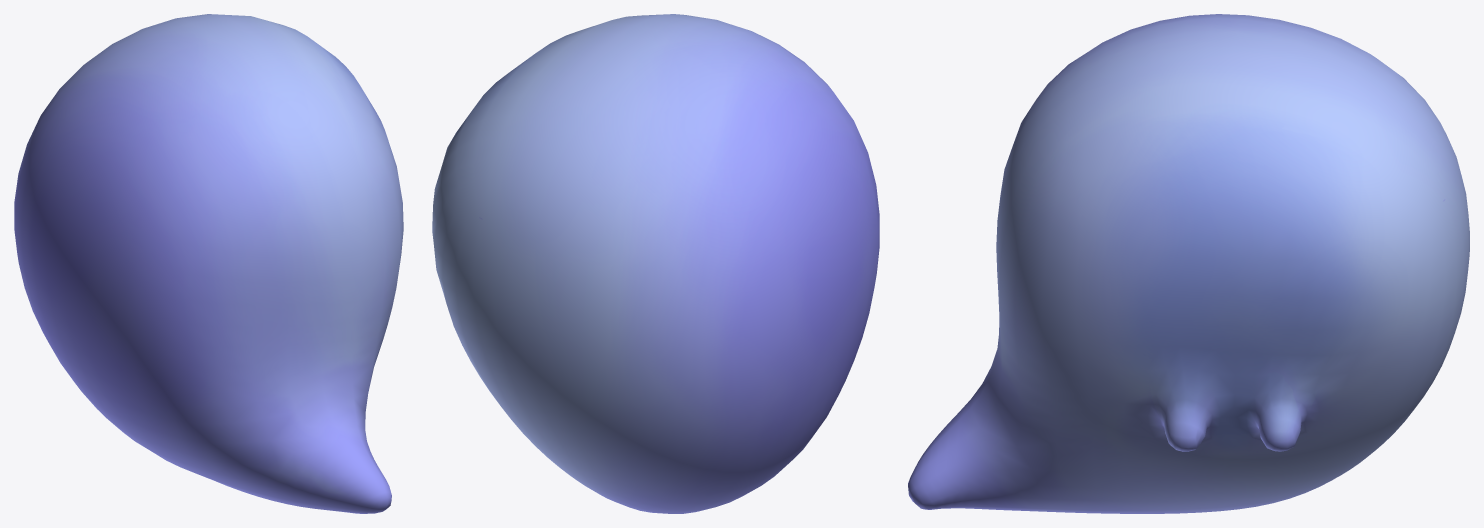
Rendered from fantasmita.obj.
3 views of the same model, side by side, from view 1: azimuth 30°, elevation 25°; view 2: azimuth 150°, elevation 25°; view 3: azimuth 270°, elevation 25° (orthographic). The views are drawn at different scales.
Visible parts, largest first — view 1: Ghost_of_Tsushiito_Final:Mesh; view 2: Ghost_of_Tsushiito_Final:Mesh; view 3: Ghost_of_Tsushiito_Final:Mesh.
Boxes of the visible parts, box(x1,y1,x2,y2) form: Ghost_of_Tsushiito_Final:Mesh: box(14, 14, 403, 513); Ghost_of_Tsushiito_Final:Mesh: box(432, 14, 879, 513); Ghost_of_Tsushiito_Final:Mesh: box(908, 14, 1469, 513).
Bounding box in the file's own units: 4.54 × 5.67 × 6.03.
2 materials, 2 textured.
